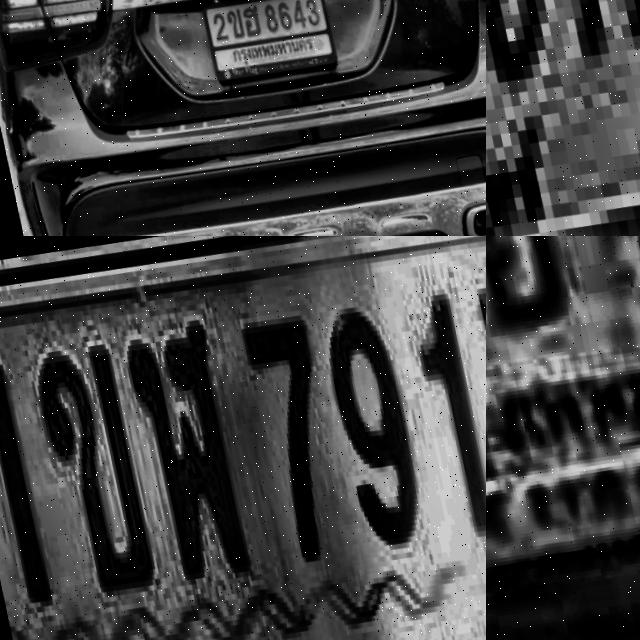license-plate: (0, 236, 486, 640), (486, 236, 640, 623), (486, 0, 640, 236), (196, 0, 337, 84)
